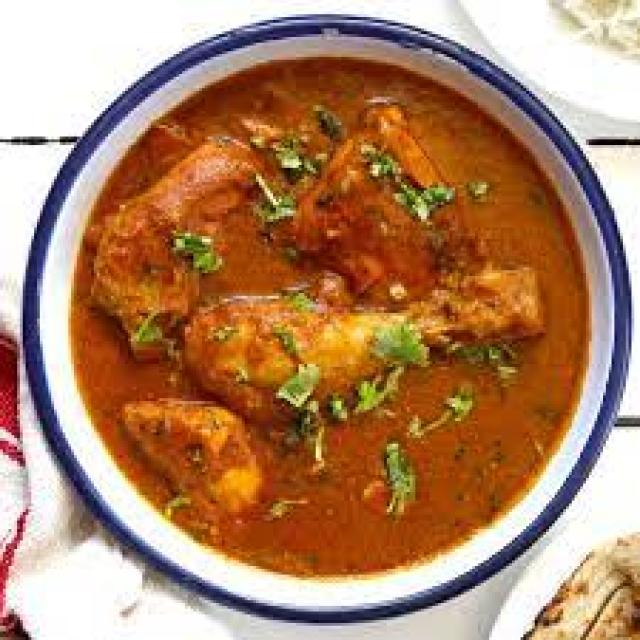Frango: (68, 54, 592, 583)
